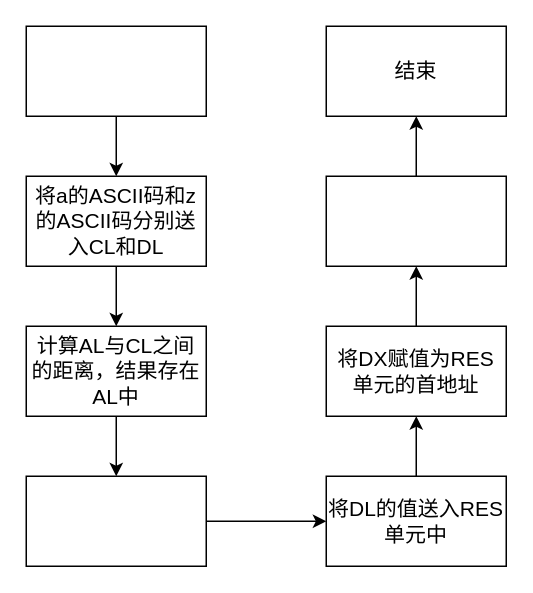
The diagram is 533 pixels wide and 593 high, and some of its shapes have lost their labels. Here are the shapes that lost their labels. From the top down, the centre of each, then its label:
the point at 115,70: 利用1号中断输入字母到AL中
the point at 415,220: 利用9号中断，输出RES单元的内容
the point at 115,520: 用DL减去AL，得到答案，送入DL中
